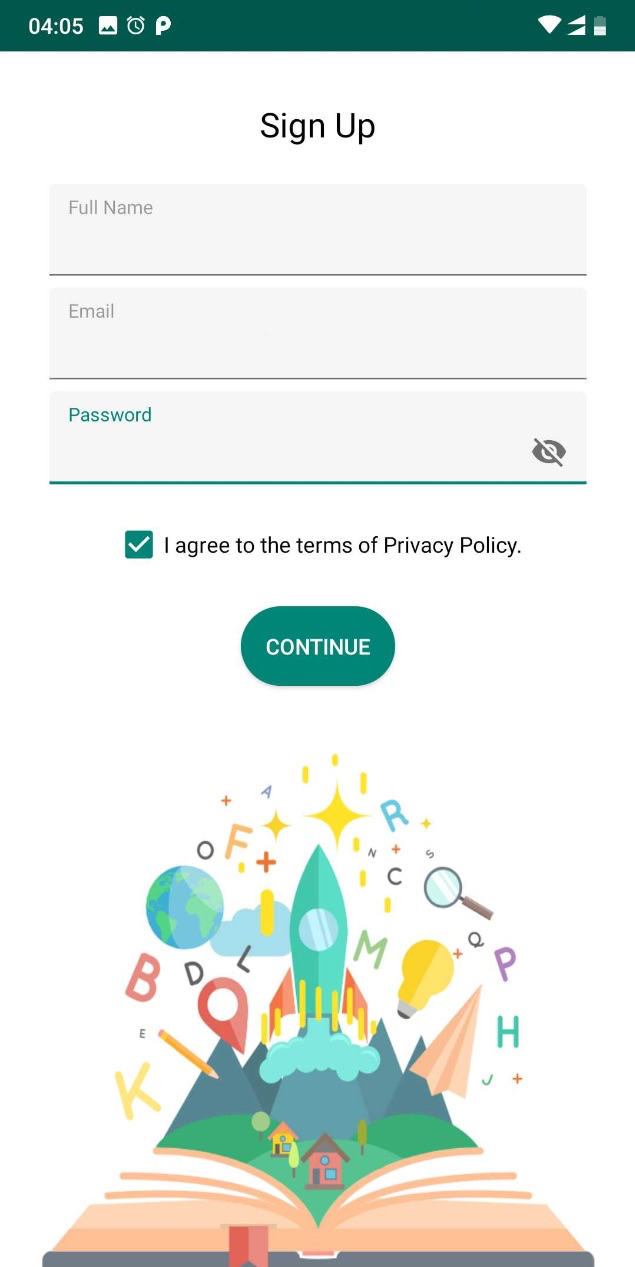CheckedTextView: (125, 530, 522, 560)
EditText: (49, 392, 588, 486), (49, 184, 588, 277), (49, 288, 587, 381)
Icon: (532, 438, 567, 469)
Image: (43, 753, 596, 1267)
Text: (165, 535, 522, 559), (261, 113, 376, 147), (70, 200, 153, 216), (69, 406, 152, 422), (70, 303, 115, 319)
TextButton: (241, 606, 396, 687)
UpperTaskBar: (1, 1, 635, 52)
